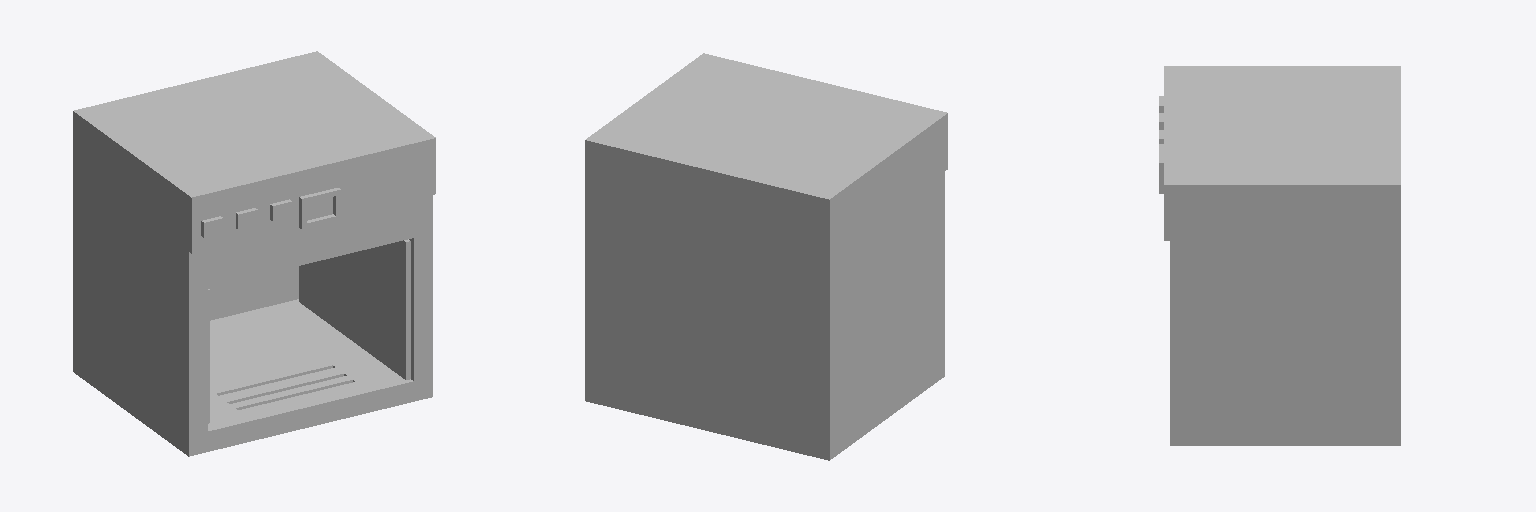
File: KitchenOPEN_Export-6.obj
3 renders of one model, left to right at view 1: azimuth 30°, elevation 25°; view 2: azimuth 150°, elevation 25°; view 3: azimuth 270°, elevation 25°, orthographic.
Visible parts, largest first — view 1: KitchenOPEN_Export-6; view 2: KitchenOPEN_Export-6; view 3: KitchenOPEN_Export-6.
Part boxes in pixels (x1,y1,x2,y2): KitchenOPEN_Export-6: (73,51,435,456); KitchenOPEN_Export-6: (585,53,947,460); KitchenOPEN_Export-6: (1159,66,1400,445).
Size of the model in its own units: 50 by 51 by 43.